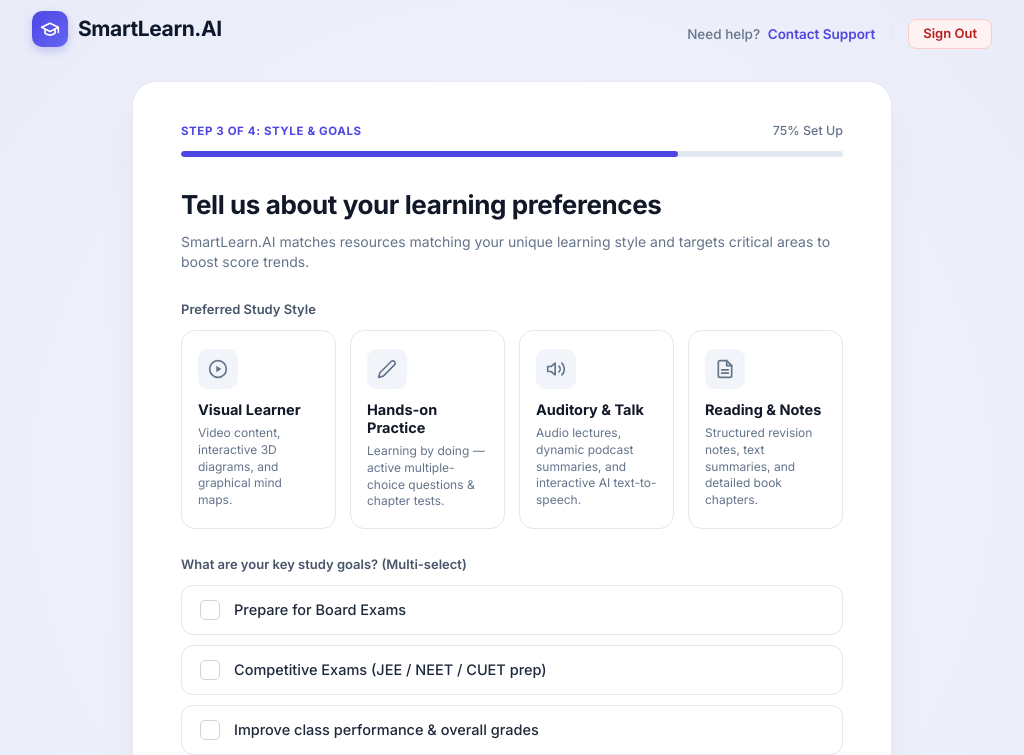
Test: Step3Page Component (Onboarding Step 3 of 4: Style & Goals) › 9. Failed API submission displays error message and does not navigate
Click the radio button labelled "Auditory & Talk" at (596, 430), box x1=519 y1=330 x2=674 y2=529
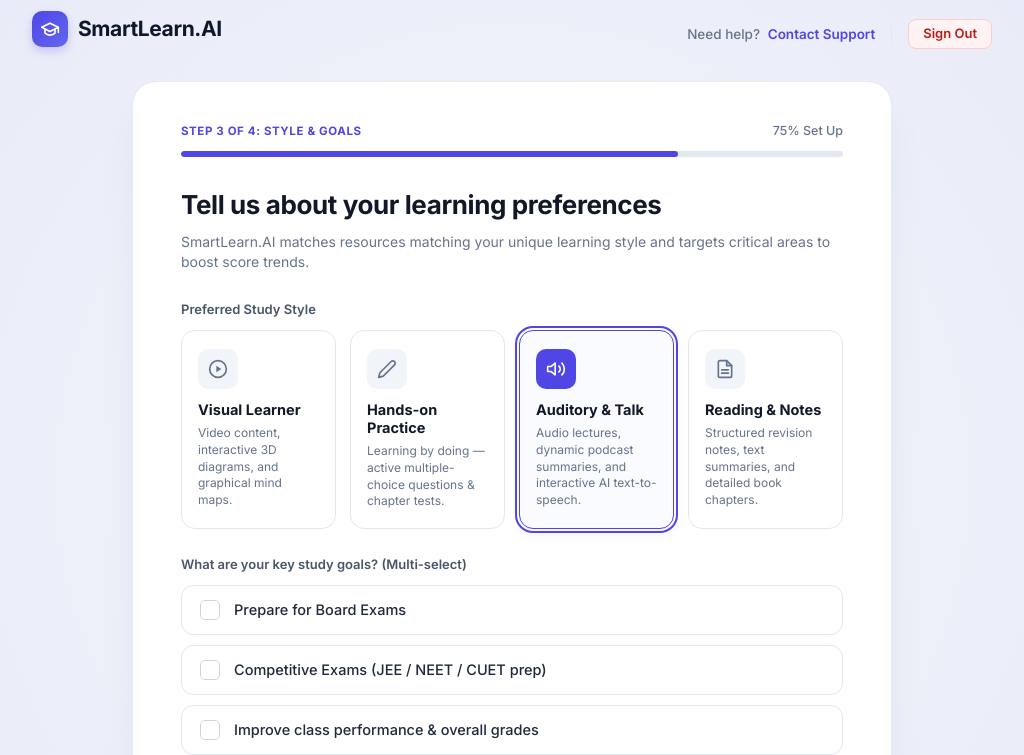
Click the checkbox labelled "Prepare for Board Exams" at (320, 610), box x1=181 y1=585 x2=843 y2=635
(page scrolled)
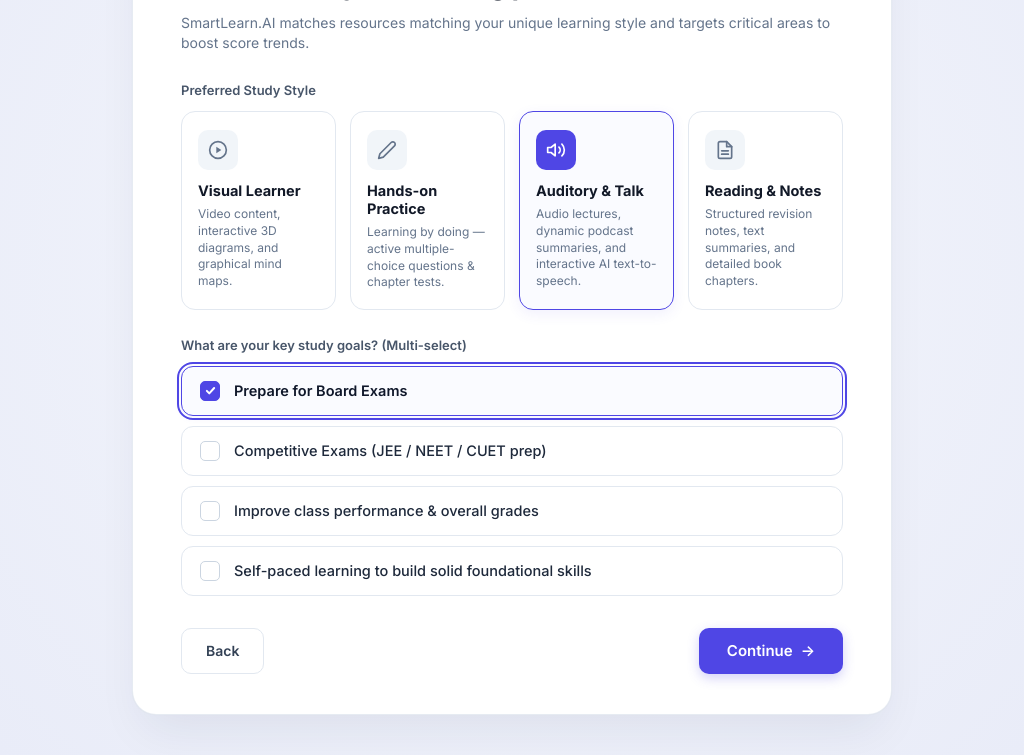
Click the button "Continue →" at (771, 651), box x1=699 y1=628 x2=843 y2=674
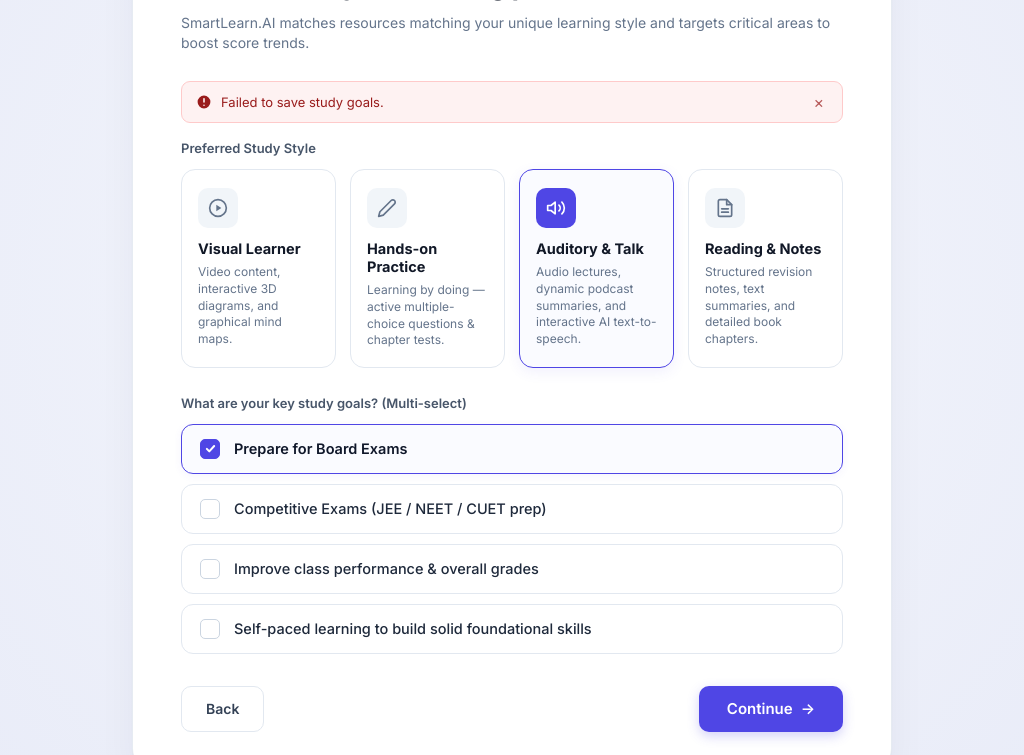
Result: the text "Failed to save study goals." is shown at x1=221 y1=93 x2=384 y2=112
